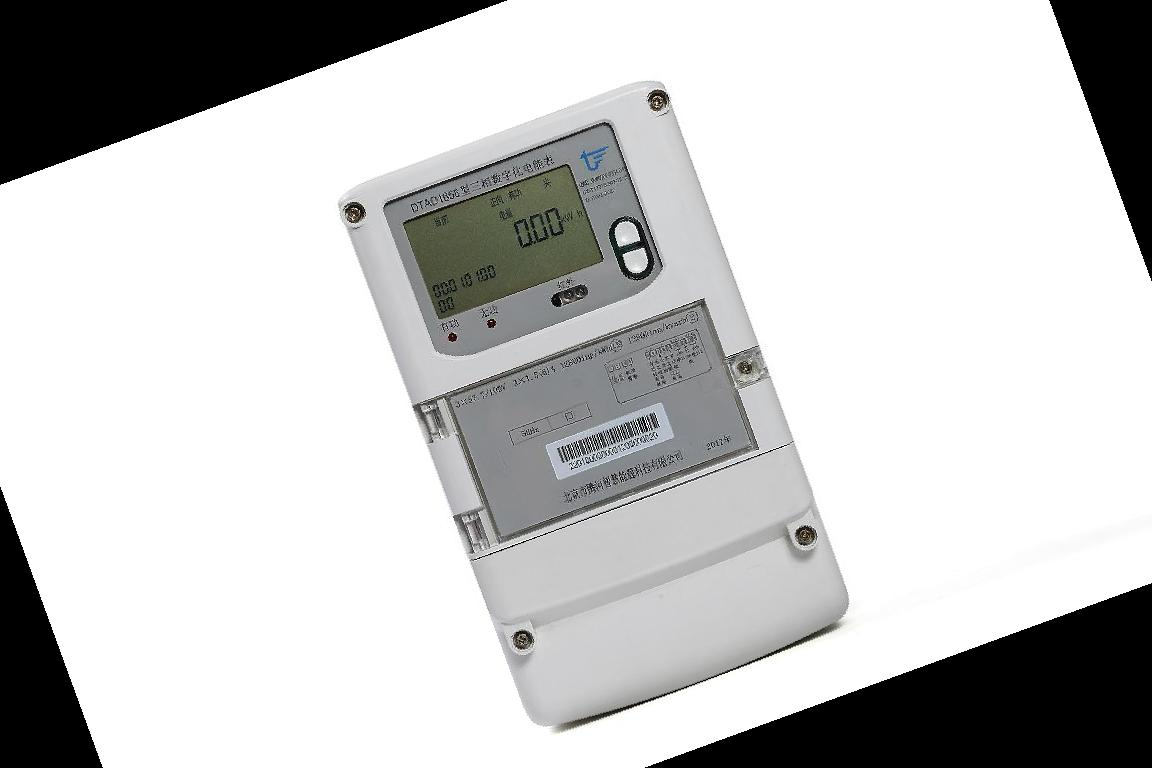digital: (337, 80, 849, 726)
